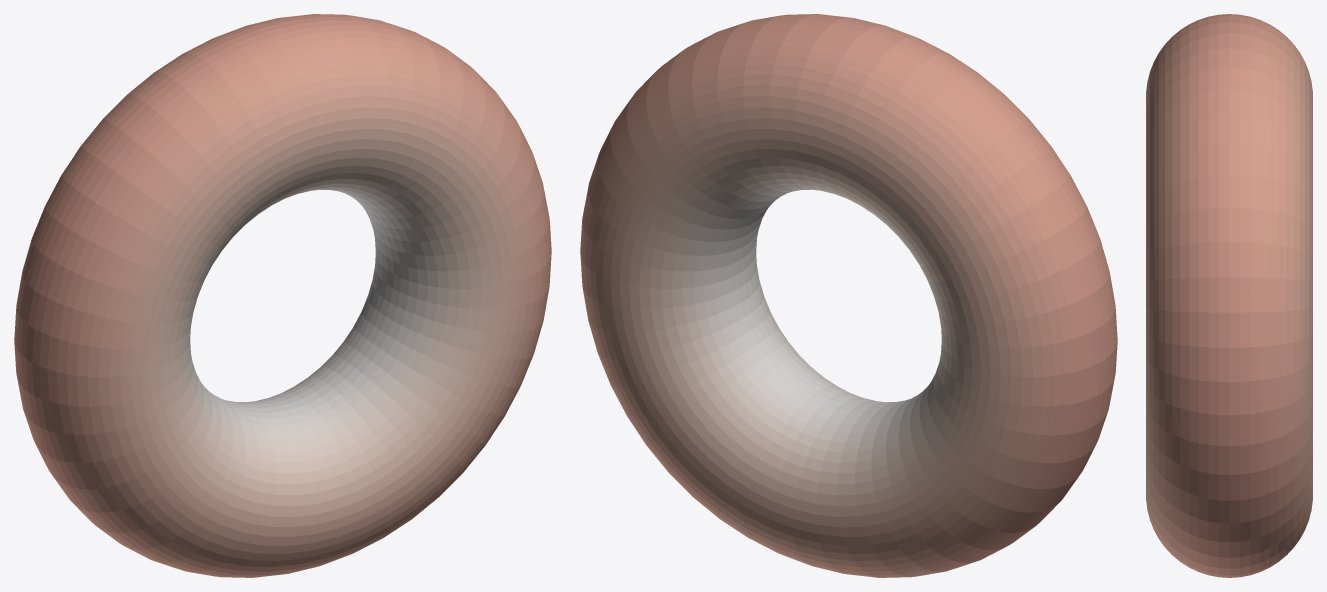
3 views of the same model, side by side, from view 1: azimuth 30°, elevation 25°; view 2: azimuth 150°, elevation 25°; view 3: azimuth 270°, elevation 25° (orthographic). The views are drawn at different scales.
Parts seen in each view (by area): view 1: world; view 2: world; view 3: world.
Boxes of the visible parts, x1=… form: world: x1=14, y1=14, x2=551, y2=577; world: x1=580, y1=14, x2=1117, y2=577; world: x1=1146, y1=14, x2=1312, y2=577.
Size of the model in its own units: 26.53 by 26.48 by 7.85.
